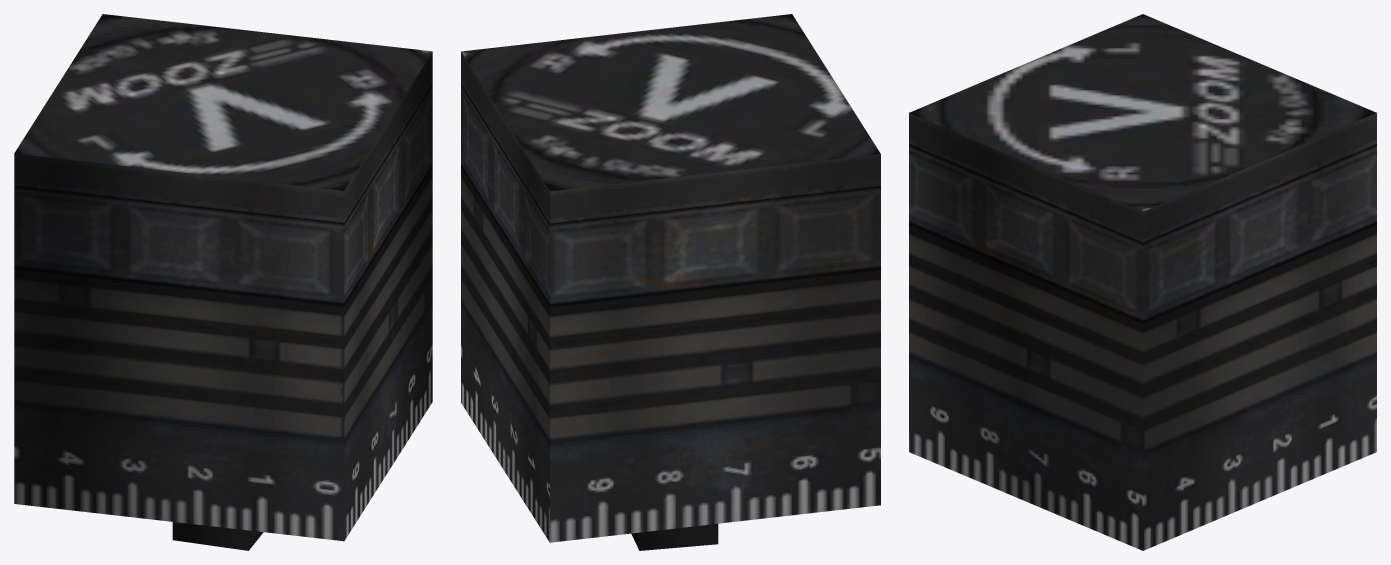
File: t6_attach_optic_vzoom_svu_world_LOD1.obj
3 renders of one model, left to right at view 1: azimuth 30°, elevation 25°; view 2: azimuth 150°, elevation 25°; view 3: azimuth 270°, elevation 25°, orthographic. The views are drawn at different scales.
Parts seen in each view (by area): view 1: mtl_t6_attach_optic_vzoom_svu; view 2: mtl_t6_attach_optic_vzoom_svu; view 3: mtl_t6_attach_optic_vzoom_svu.
Part boxes in pixels (<box>): mtl_t6_attach_optic_vzoom_svu: <box>14,14,432,550</box>; mtl_t6_attach_optic_vzoom_svu: <box>461,14,880,550</box>; mtl_t6_attach_optic_vzoom_svu: <box>909,14,1376,550</box>.
Bounding box in the file's own units: 1.89 × 1.84 × 1.89.
